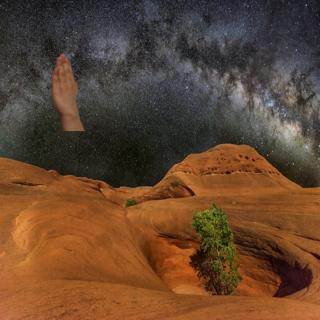RIGHT: (48, 48, 82, 115)
